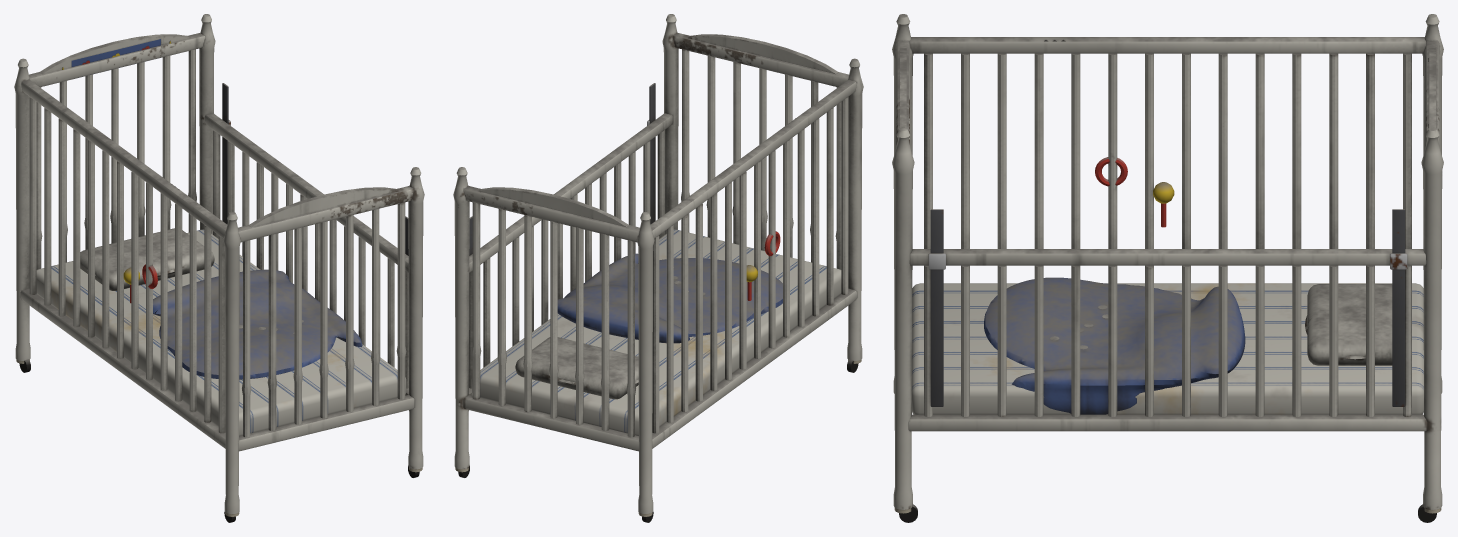
Rendered from SM_Crib_Wooden.fbx.
The picture shows the model from 3 angles, left to right: view 1: azimuth 30°, elevation 25°; view 2: azimuth 150°, elevation 25°; view 3: azimuth 270°, elevation 25°; orthographic projection. The views are drawn at different scales.
Parts seen in each view (by area): view 1: SM_Crib_Wooden; view 2: SM_Crib_Wooden; view 3: SM_Crib_Wooden.
Part boxes in pixels (<box>): SM_Crib_Wooden: <box>14,14,424,522</box>; SM_Crib_Wooden: <box>453,14,863,522</box>; SM_Crib_Wooden: <box>892,14,1443,522</box>.
Bounding box in the file's own units: 0.668 × 0.998 × 1.27.
Materials: 1 (1 with a texture image).
